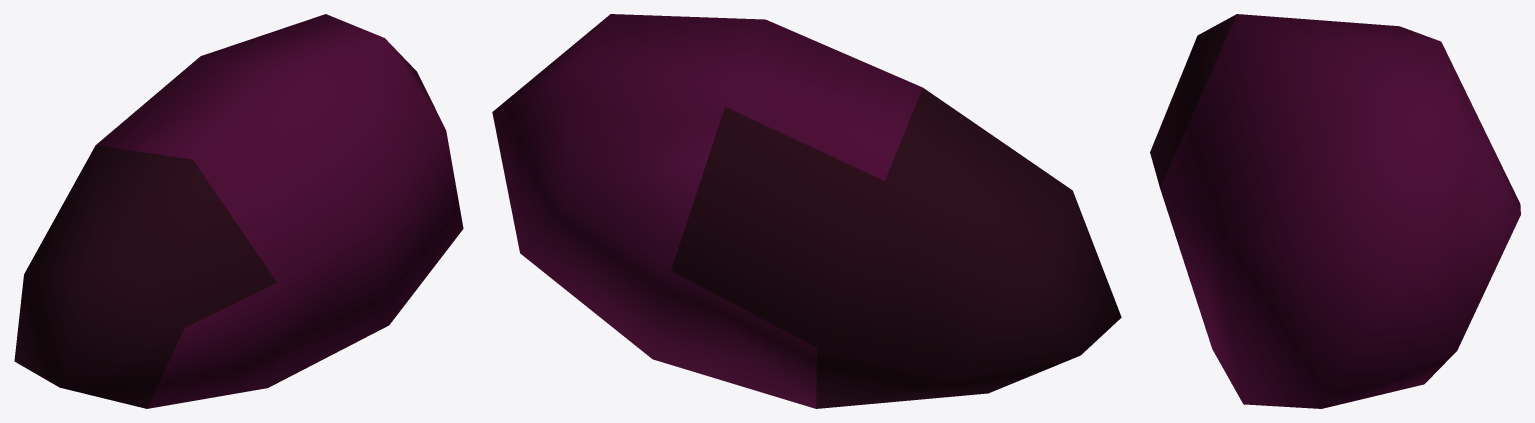
File: terrain-abyss-chancel-object-078.obj
3 views of the same model, side by side, from view 1: azimuth 30°, elevation 25°; view 2: azimuth 150°, elevation 25°; view 3: azimuth 270°, elevation 25° (orthographic). The views are drawn at different scales.
Parts seen in each view (by area): view 1: terrain-abyss-chancel-object-078; view 2: terrain-abyss-chancel-object-078; view 3: terrain-abyss-chancel-object-078.
Boxes of the visible parts, <box> form: terrain-abyss-chancel-object-078: <box>14,14,463,408</box>; terrain-abyss-chancel-object-078: <box>492,14,1121,408</box>; terrain-abyss-chancel-object-078: <box>1150,14,1520,408</box>.
Size of the model in its own units: 0.0207 by 0.0124 by 0.0115.
